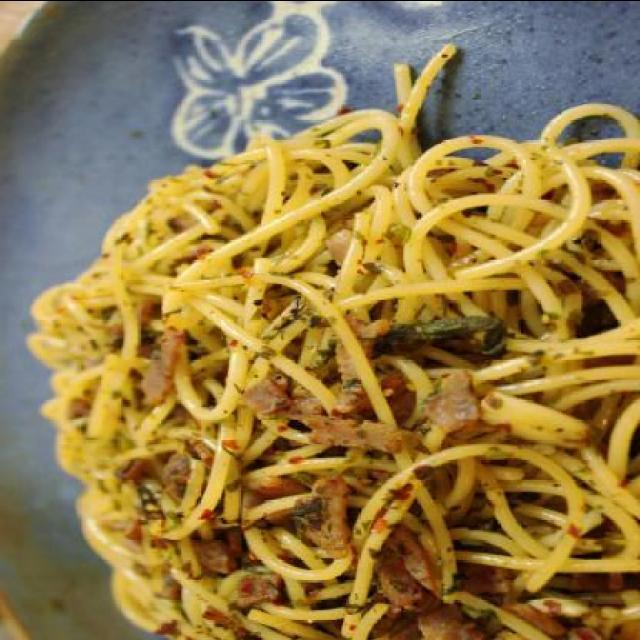Oil pasta: (61, 117, 618, 634)
